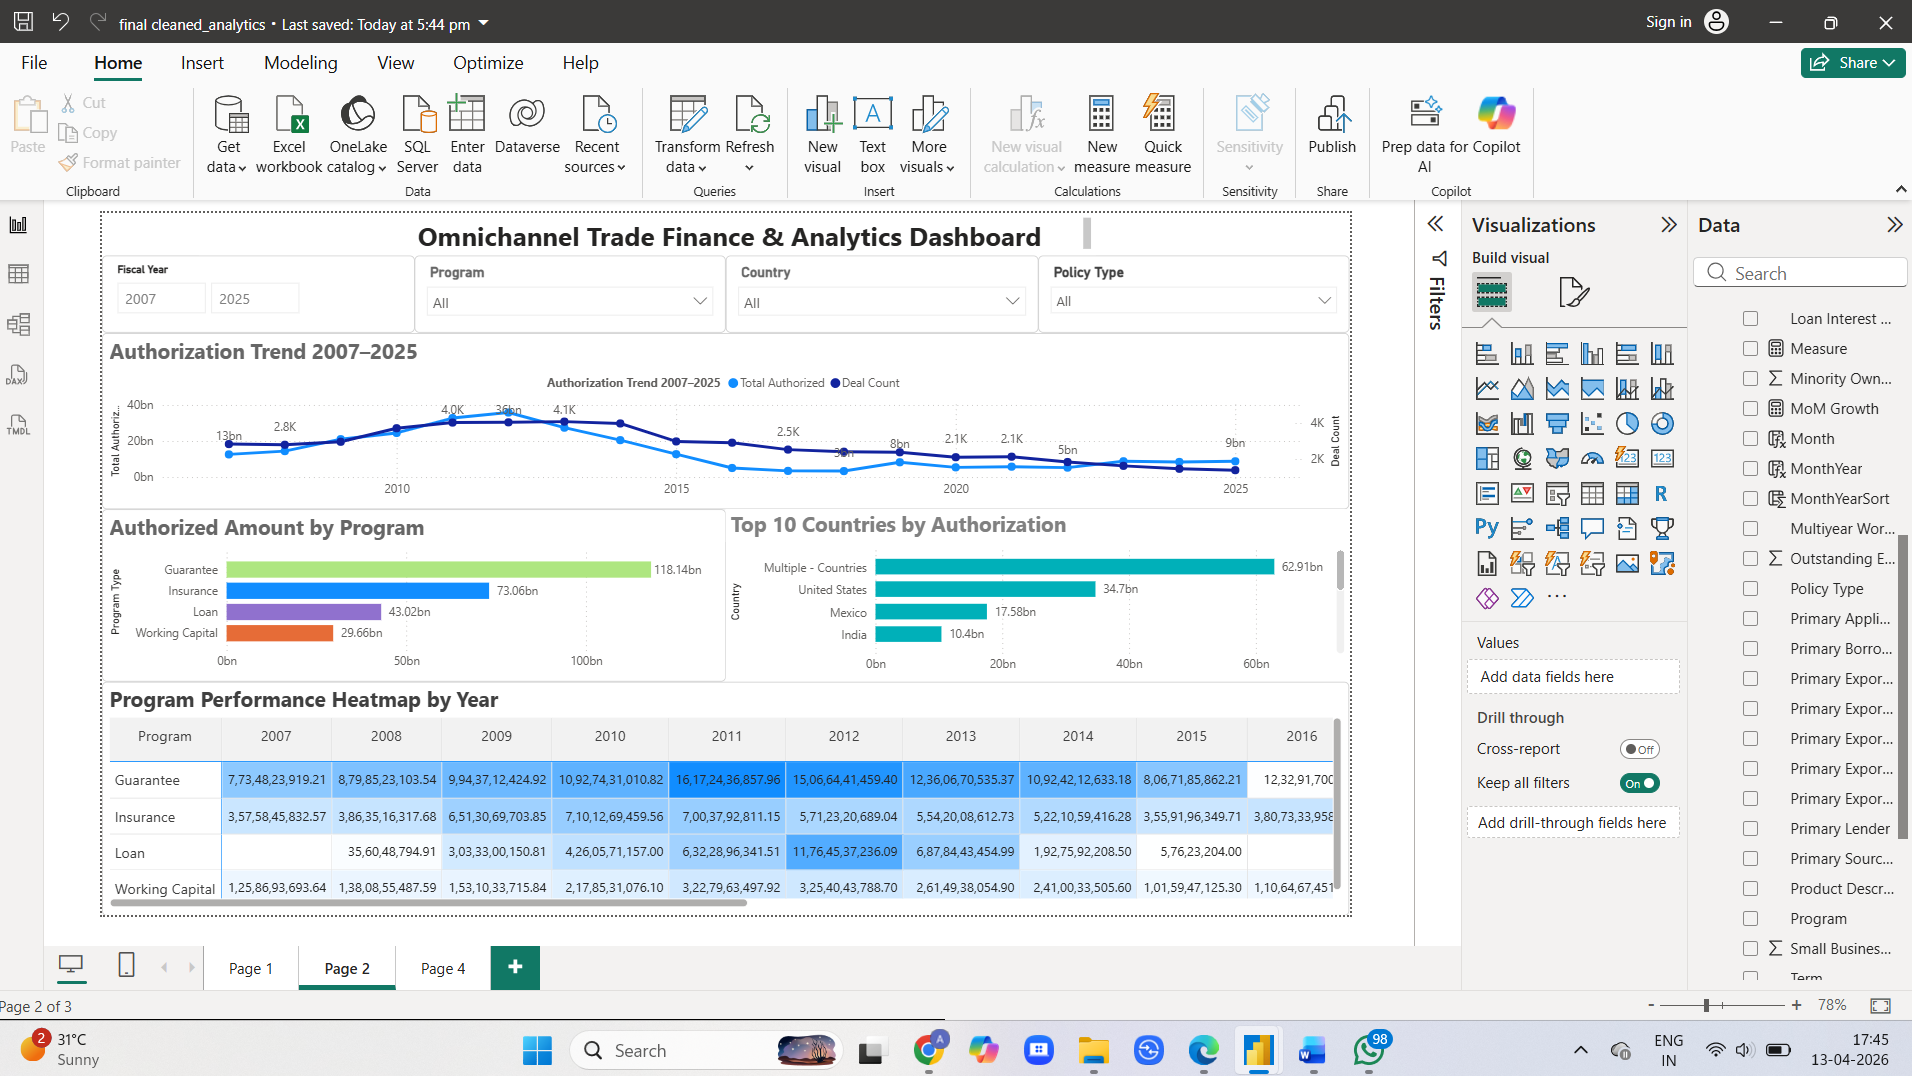

The page's visual inventory and layout, read from the dashboard file:
{"tool":"powerbi","page":{"name":"Page 2","canvas":[1280,720],"ordinal":1},"visuals":[{"type":"lineChart","title":"Authorization Trend 2007–2025","fields":{"Y":["Sheet1.Total Authorized"],"Category":["Sheet1.Fiscal Year"],"Y2":["Sheet1.Deal Count"]},"box":[0,123.1,1279.5,180.8],"z":0},{"type":"clusteredBarChart","title":"Authorized Amount by Program","fields":{"Category":["Sheet1.Program"],"Y":["Sheet1.Total Authorized"]},"box":[0,303.8,639.7,176.9],"z":1},{"type":"clusteredBarChart","title":"Top 10 Countries by Authorization","fields":{"Category":["Sheet1.Country"],"Y":["Sheet1.Total Authorized"]},"box":[639.7,303.8,639.7,176.9],"z":2},{"type":"pivotTable","title":"Program Performance Heatmap by Year","fields":{"Rows":["Sheet1.Program"],"Columns":["Sheet1.Fiscal Year"],"Values":["Sheet1.Total Authorized"]},"box":[0,480.8,1279.5,239.7],"z":3},{"type":"slicer","fields":{"Values":["Sheet1.Fiscal Year"]},"box":[0,43.6,320.5,79.5],"z":4},{"type":"slicer","fields":{"Values":["Sheet1.Program"]},"box":[320.5,43.6,319.2,79.5],"z":5},{"type":"slicer","fields":{"Values":["Sheet1.Country"]},"box":[639.7,43.6,320.5,79.5],"z":6},{"type":"slicer","fields":{"Values":["Sheet1.Policy Type"]},"box":[960.3,43.6,319.2,79.5],"z":7},{"type":"textbox","box":[100,0,919.2,43.6],"z":8}]}

Visuals, with their boxes on the page's 1280x720 design canvas (x1, y1, x2, y2). These are canvas units, not pixel positions in the 1912x1076 screenshot, which may show the page scaled, cropped or inside an application window:
"Authorization Trend 2007–2025" lineChart: x1=0 y1=123 x2=1280 y2=304
"Authorized Amount by Program" clusteredBarChart: x1=0 y1=304 x2=640 y2=481
"Top 10 Countries by Authorization" clusteredBarChart: x1=640 y1=304 x2=1279 y2=481
"Program Performance Heatmap by Year" pivotTable: x1=0 y1=481 x2=1280 y2=720
slicer - Sheet1.Fiscal Year: x1=0 y1=44 x2=320 y2=123
slicer - Sheet1.Program: x1=320 y1=44 x2=640 y2=123
slicer - Sheet1.Country: x1=640 y1=44 x2=960 y2=123
slicer - Sheet1.Policy Type: x1=960 y1=44 x2=1280 y2=123
textbox: x1=100 y1=0 x2=1019 y2=44
